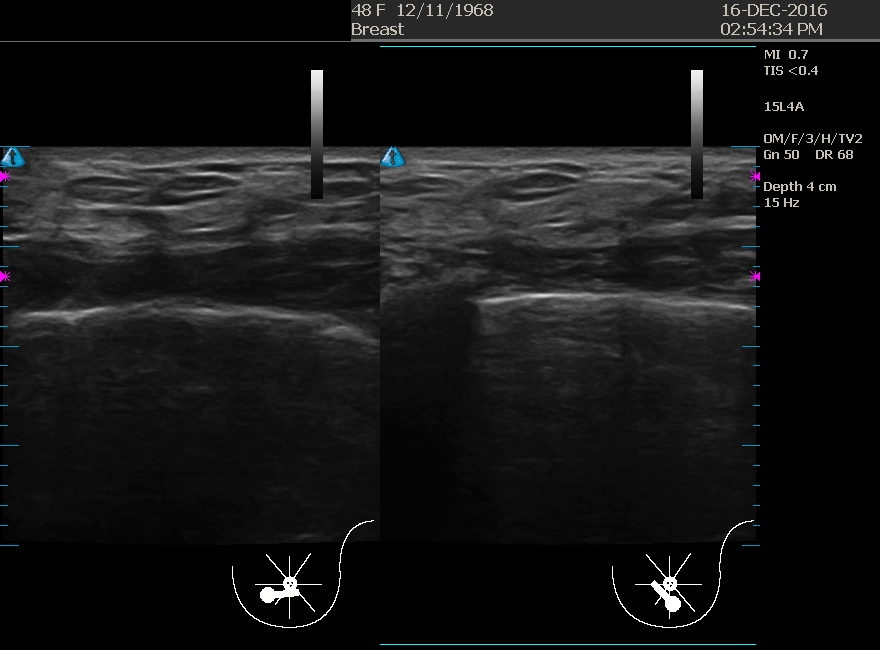BIRADS_2: (107, 149, 307, 350), (404, 149, 604, 350)
